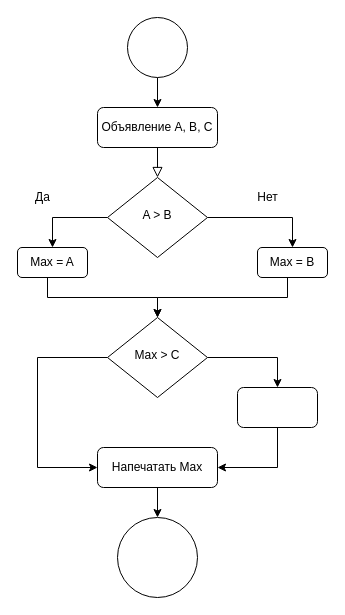
The diagram is 345 pixels wide and 615 high, and some of its shapes have lost their labels. The box of each missing label's shape, as (x1, y1, x2, y2) in pixels:
Max = C: (236, 386, 318, 428)
Конец: (116, 516, 198, 598)
Начало: (126, 16, 188, 78)
